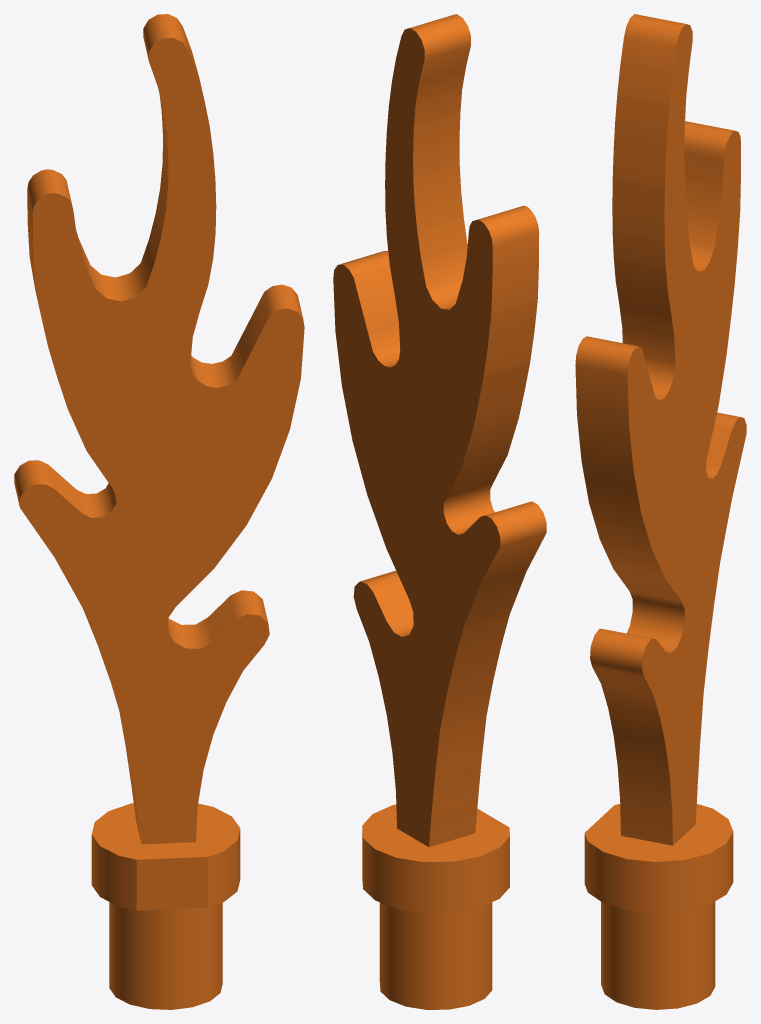
The model's file is FlameArmature.fbx.
3 renders of one model, left to right at view 1: azimuth 30°, elevation 25°; view 2: azimuth 150°, elevation 25°; view 3: azimuth 270°, elevation 25°, orthographic.
Visible parts, largest first — view 1: Flame; view 2: Flame; view 3: Flame.
Boxes of the visible parts, <box> form: Flame: <box>14,14,304,1009</box>; Flame: <box>333,14,546,1009</box>; Flame: <box>575,14,746,1009</box>.
Size of the model in its own units: 4.78 by 7.98 by 29.78.
